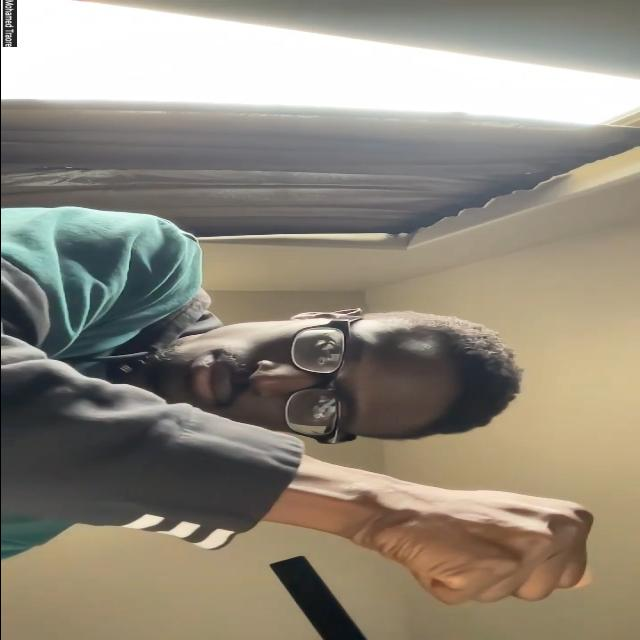Rock: (356, 490, 596, 606)
